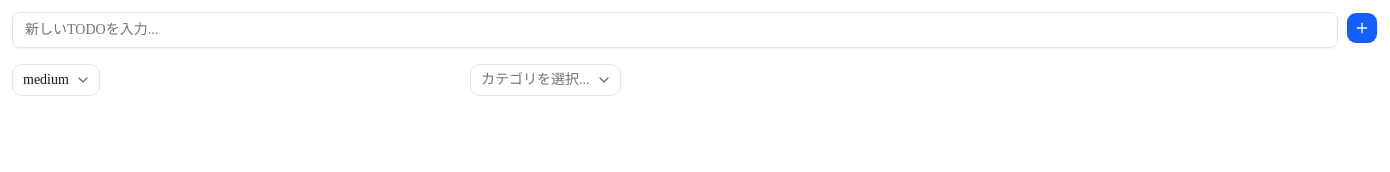
Scenario: TodoForm › 新規カテゴリ選択肢が表示される
This screenshot has width=1390, height=172.
Click the dropdown labelled "カテゴリを選択... ▼". click: coordinates (545, 80)
box: [470,64,620,96]
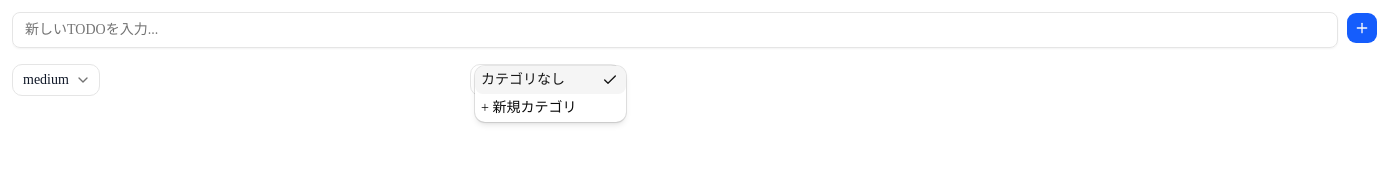
Expected: the text "+ 新規カテゴリ" is shown, [481,100,576,115]
